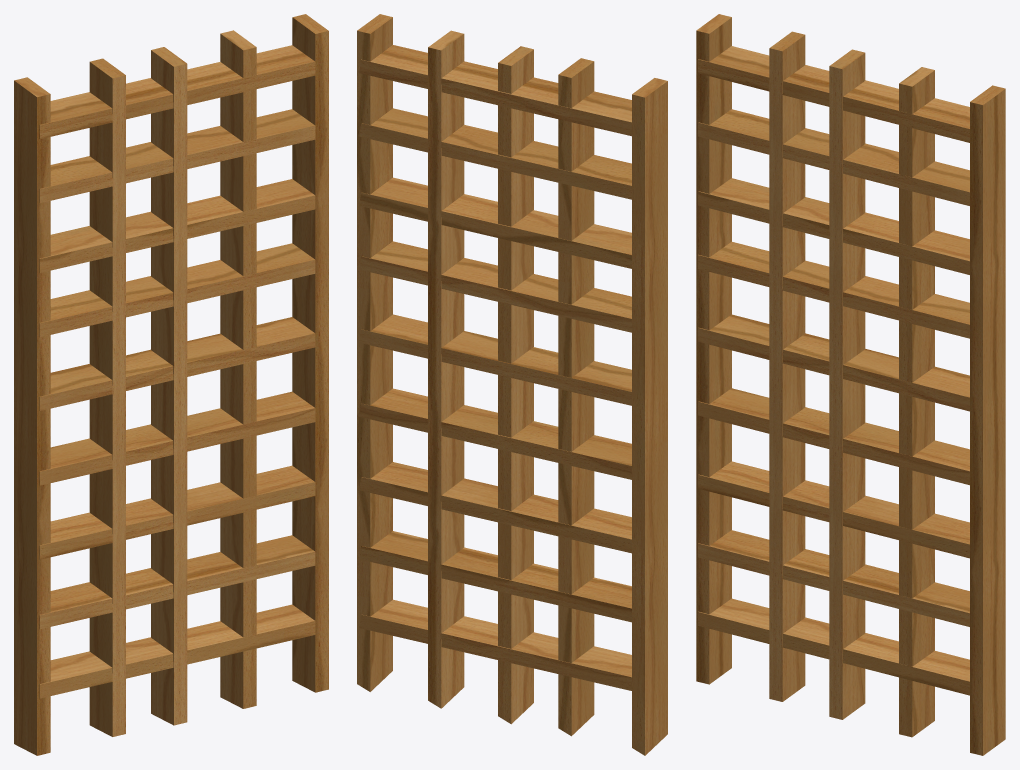
File: gate_wood.obj
3 renders of one model, left to right at view 1: azimuth 30°, elevation 25°; view 2: azimuth 150°, elevation 25°; view 3: azimuth 330°, elevation 25°, orthographic.
Visible parts, largest first — view 1: Cube; view 2: Cube; view 3: Cube.
Boxes of the visible parts, x1,y1,x2,y2 form: Cube: [14, 14, 328, 755]; Cube: [357, 14, 667, 755]; Cube: [696, 14, 1005, 755].
Size of the model in its own units: 6.4 by 14.04 by 0.9133.
